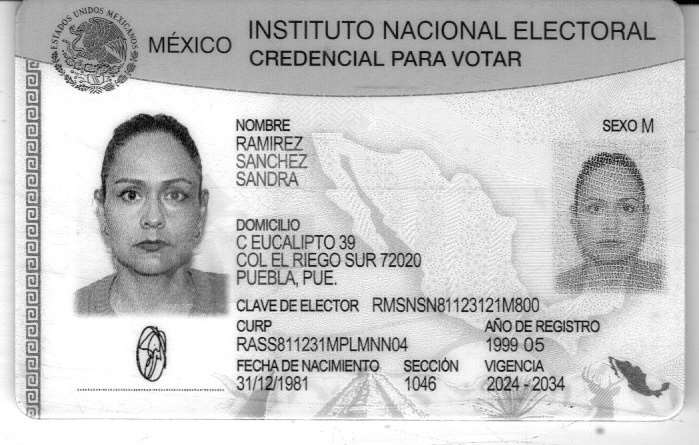ESCUDO: (51, 7, 139, 93)
MAPA: (607, 355, 671, 398)
PALABRA: (513, 19, 657, 40)
